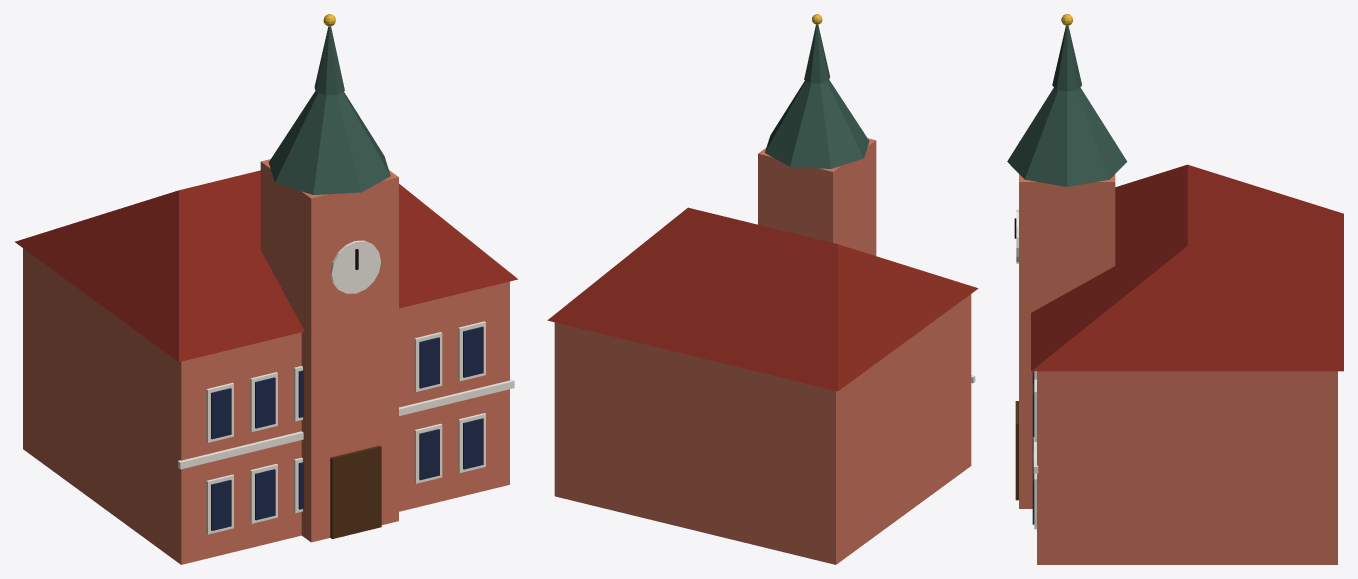
Rendered from zamek.glb.
3 renders of one model, left to right at view 1: azimuth 30°, elevation 25°; view 2: azimuth 150°, elevation 25°; view 3: azimuth 270°, elevation 25°, orthographic. The views are drawn at different scales.
Parts seen in each view (by area): view 1: zamek; view 2: zamek; view 3: zamek.
Part boxes in pixels (box(x1,y1,x2,y2)): zamek: box(15, 14, 517, 564); zamek: box(547, 14, 978, 564); zamek: box(1007, 14, 1343, 564).
Size of the model in its own units: 6.2 by 8.7 by 5.6.
